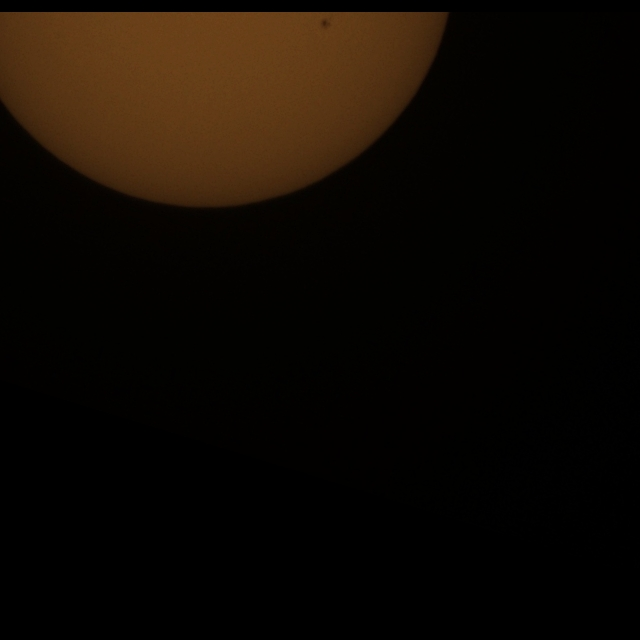sunspot: (320, 16, 332, 30)
